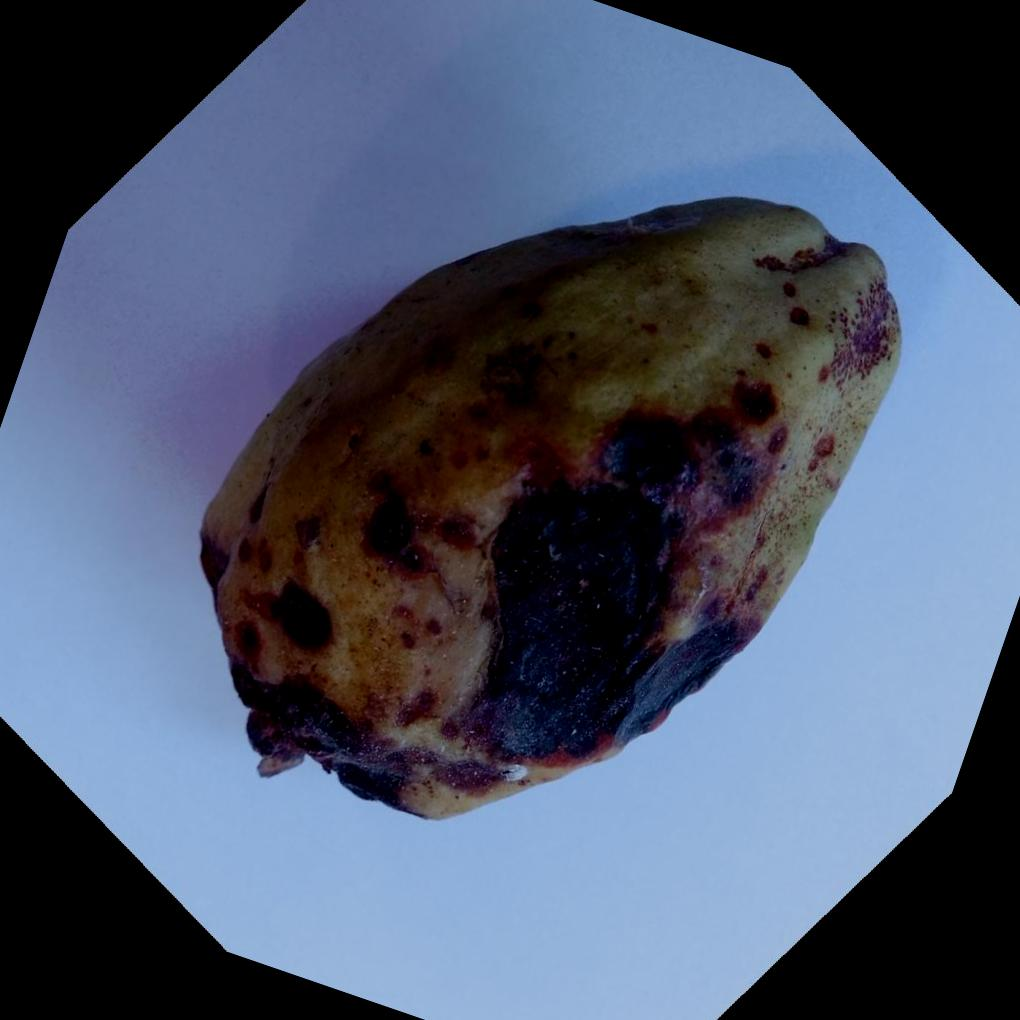FreshOrange: (199, 191, 904, 817)
